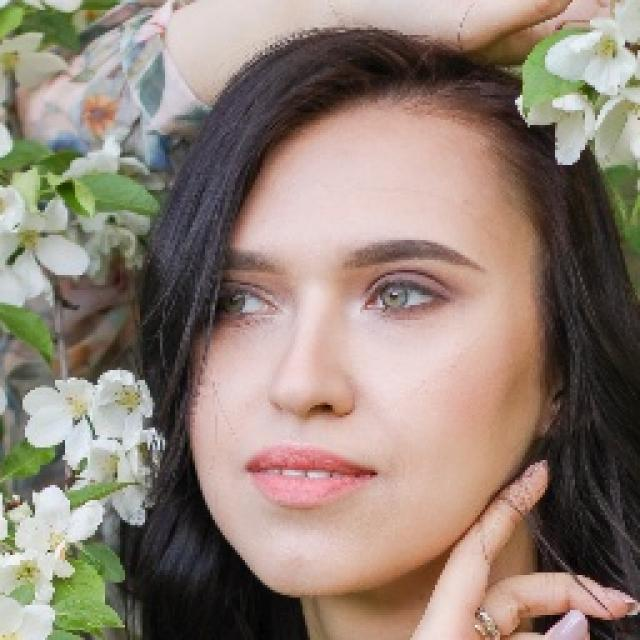earlobe: (534, 400, 568, 440)
eye: (355, 274, 446, 315), (213, 281, 287, 323)
nose: (268, 396, 348, 440)
